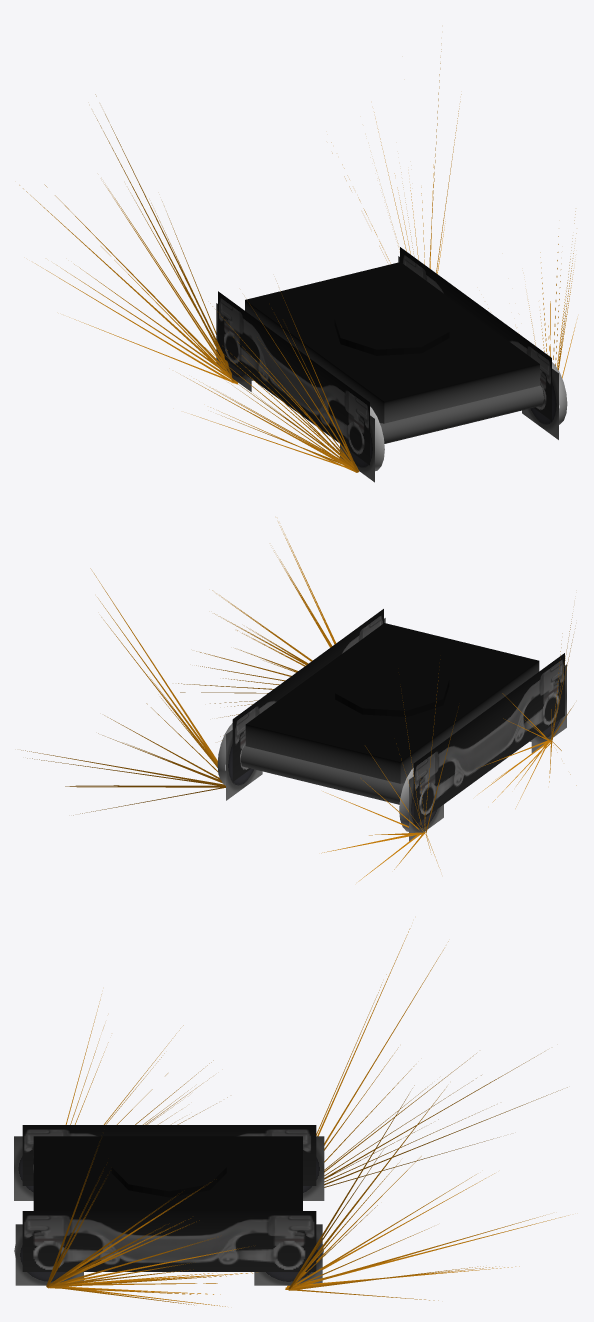
File: K800_TRACK.glb
3 views of the same model, one above another, from view 1: azimuth 30°, elevation 25°; view 2: azimuth 150°, elevation 25°; view 3: azimuth 270°, elevation 25° (orthographic). The views are drawn at different scales.
Visible parts, largest first — view 1: trackbase, Fire1_R_1, Fire0_R_0; view 2: trackbase, Fire1_L_0, Fire0_L_1, Fire0_L_0, Fire1_R_1, Fire0_R_0; view 3: trackbase, Fire1_L_1, Fire0_L_0, Fire0_L_1, Fire1_R_0, Fire0_R_1.
Part boxes in pixels (<box>): trackbase: <box>216,247,567,482</box>; Fire1_R_1: <box>19,94,237,384</box>; Fire0_R_0: <box>184,283,359,472</box>; trackbase: <box>217,609,566,840</box>; Fire1_L_0: <box>25,574,225,813</box>; Fire0_L_1: <box>180,526,336,715</box>; Fire0_L_0: <box>178,522,335,717</box>; Fire1_R_1: <box>322,677,438,881</box>; Fire0_R_0: <box>479,681,561,806</box>; trackbase: <box>14,1125,324,1285</box>; Fire1_L_1: <box>285,1091,564,1300</box>; Fire0_L_0: <box>47,1138,257,1306</box>; Fire0_L_1: <box>46,1141,256,1306</box>; Fire1_R_0: <box>316,929,562,1187</box>; Fire0_R_1: <box>65,1006,216,1124</box>.
Size of the model in its own units: 10.41 by 6.14 by 12.81.
Materials: 13 (4 with a texture image).
